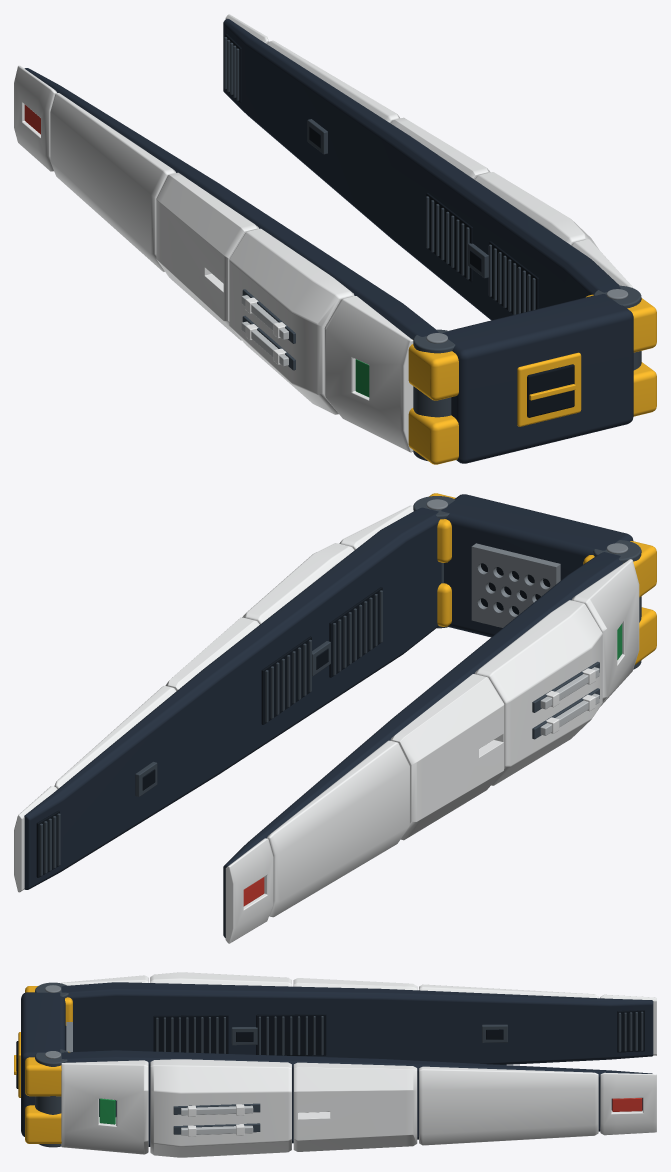
Rendered from fin-funnel.glb.
3 views of the same model, one above another, from view 1: azimuth 30°, elevation 25°; view 2: azimuth 150°, elevation 25°; view 3: azimuth 270°, elevation 25° (orthographic). The views are drawn at different scales.
Visible parts, largest first — view 1: Starboard / inner spar, Bridge / central navy enclosure, Port / armour 2, Port / armour 4, Port / armour 1, Port / armour 3, Port / inner spar, Port / armour 5, Starboard / armour 2, Port / hinge cheek.001, Port / hinge cheek, Bridge / rear yellow surround (+9 smaller); view 2: Starboard / inner spar, Port / armour 4, Port / armour 2, Port / armour 3, Bridge / central navy enclosure, Port / inner spar, Port / armour 1, Bridge / perforated face, Port / armour 5, Starboard / armour 2, Starboard / channel floor.001, Starboard / armour 3 (+7 smaller); view 3: Port / inner spar, Starboard / armour 4, Starboard / armour 2, Starboard / armour 3, Starboard / armour 1, Starboard / inner spar, Bridge / central navy enclosure, Starboard / armour 5, Port / channel floor.001, Port / channel floor, Port / armour 2, Starboard / hinge cheek.001 (+15 smaller).
Boxes of the visible parts, left/top/right/bottom form: Starboard / inner spar: left=223, top=19, right=620, bottom=320; Bridge / central navy enclosure: left=442, top=294, right=633, bottom=463; Port / armour 2: left=229, top=228, right=354, bottom=414; Port / armour 4: left=50, top=93, right=175, bottom=271; Port / armour 1: left=324, top=296, right=413, bottom=452; Port / armour 3: left=156, top=172, right=259, bottom=340; Port / inner spar: left=24, top=68, right=438, bottom=339; Port / armour 5: left=14, top=65, right=57, bottom=171; Starboard / armour 2: left=474, top=172, right=598, bottom=248; Port / hinge cheek.001: left=408, top=344, right=458, bottom=400; Port / hinge cheek: left=408, top=408, right=458, bottom=464; Bridge / rear yellow surround: left=517, top=352, right=581, bottom=426; Starboard / inner spar: left=24, top=507, right=441, bottom=889; Port / armour 4: left=266, top=740, right=409, bottom=917; Port / armour 2: left=474, top=600, right=602, bottom=785; Port / armour 3: left=390, top=674, right=504, bottom=840; Bridge / central navy enclosure: left=441, top=494, right=633, bottom=637; Port / inner spar: left=223, top=552, right=623, bottom=937; Port / armour 1: left=571, top=559, right=639, bottom=705; Bridge / perforated face: left=471, top=543, right=560, bottom=627; Port / armour 5: left=225, top=838, right=273, bottom=943; Starboard / armour 2: left=242, top=543, right=354, bottom=624; Starboard / channel floor.001: left=261, top=636, right=311, bottom=724; Starboard / armour 3: left=165, top=617, right=259, bottom=690; Port / inner spar: left=61, top=982, right=653, bottom=1064; Starboard / armour 4: left=419, top=1066, right=598, bottom=1145; Starboard / armour 2: left=150, top=1059, right=291, bottom=1157; Starboard / armour 3: left=293, top=1062, right=417, bottom=1151; Starboard / armour 1: left=61, top=1060, right=148, bottom=1154; Starboard / inner spar: left=61, top=1050, right=652, bottom=1146; Bridge / central navy enclosure: left=21, top=992, right=65, bottom=1136; Starboard / armour 5: left=600, top=1072, right=656, bottom=1135; Port / channel floor.001: left=256, top=1014, right=326, bottom=1055; Port / channel floor: left=153, top=1015, right=228, bottom=1053; Port / armour 2: left=150, top=972, right=291, bottom=986; Starboard / hinge cheek.001: left=25, top=1051, right=69, bottom=1096.
Bounding box in the file's own units: 2.97 × 1.1 × 6.94.
